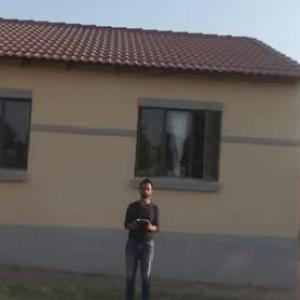follow: (114, 175, 162, 299)
